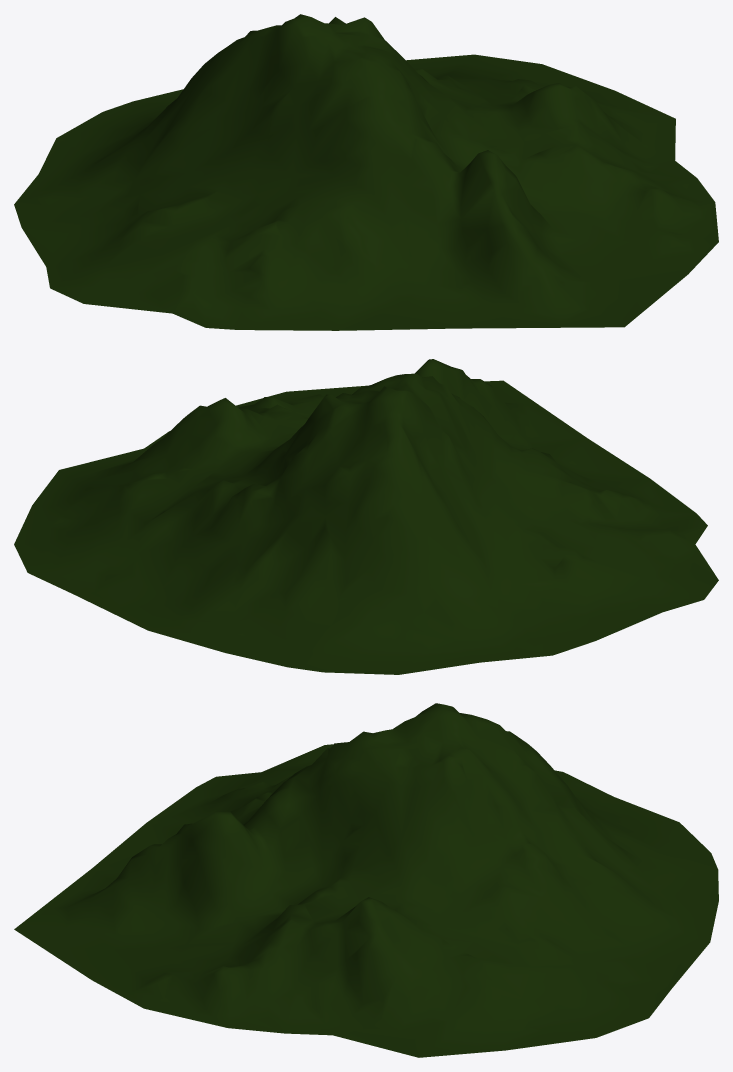
File: Mountain V04S.FBX
3 views of the same model, one above another, from view 1: azimuth 30°, elevation 25°; view 2: azimuth 150°, elevation 25°; view 3: azimuth 270°, elevation 25° (orthographic). The views are drawn at different scales.
Visible parts, largest first — view 1: Mountain V04S; view 2: Mountain V04S; view 3: Mountain V04S.
Part boxes in pixels (x1,y1,x2,y2): Mountain V04S: [14, 14, 718, 330]; Mountain V04S: [14, 359, 718, 674]; Mountain V04S: [14, 703, 718, 1057].
Size of the model in its own units: 27.62 by 7.37 by 26.44.
